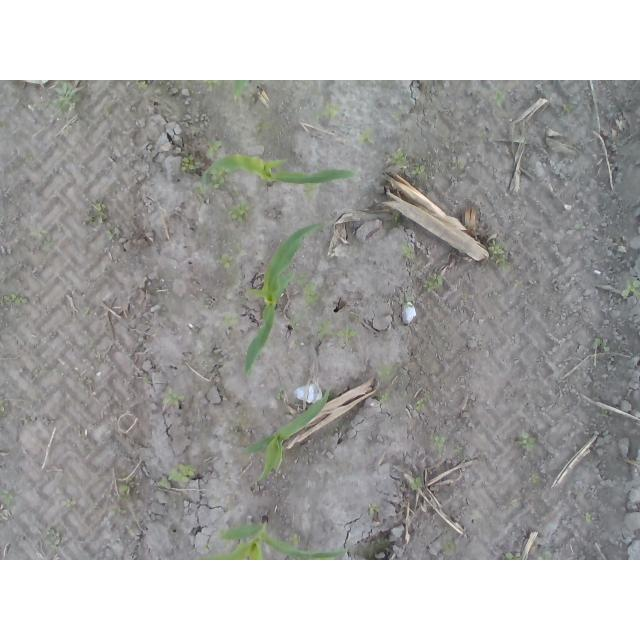Maize: (244, 224, 324, 376), (240, 389, 329, 483), (198, 151, 356, 194), (206, 520, 346, 561), (232, 80, 249, 98)
Weeds: (158, 462, 199, 490), (32, 226, 57, 255), (83, 199, 109, 226), (309, 101, 339, 123), (488, 240, 507, 271), (161, 383, 187, 405), (229, 203, 252, 224), (422, 273, 447, 292), (390, 148, 411, 169), (112, 478, 132, 500), (516, 432, 541, 449), (493, 86, 512, 108), (303, 284, 321, 305), (0, 291, 28, 304), (621, 278, 640, 297), (358, 127, 378, 145), (433, 434, 448, 457), (180, 154, 196, 175), (216, 254, 237, 270), (315, 319, 333, 337), (399, 241, 417, 259), (208, 138, 225, 156), (208, 174, 227, 190), (593, 336, 610, 353), (46, 527, 62, 545), (440, 538, 456, 556), (451, 443, 466, 462), (190, 113, 208, 128), (410, 163, 427, 178), (105, 224, 120, 240), (33, 368, 63, 376), (375, 366, 392, 380), (503, 499, 519, 513), (224, 314, 241, 327), (335, 328, 357, 338), (302, 181, 320, 193), (409, 476, 427, 488), (397, 295, 415, 307), (448, 158, 464, 170), (111, 506, 130, 516), (205, 81, 222, 92), (375, 391, 393, 401), (296, 273, 308, 288), (528, 474, 544, 485), (0, 491, 12, 505), (288, 533, 302, 545), (536, 550, 552, 560), (561, 103, 573, 116), (135, 80, 150, 90), (504, 552, 522, 560), (391, 209, 401, 223), (0, 399, 8, 416), (415, 398, 425, 410), (89, 336, 96, 352), (66, 499, 76, 510), (391, 111, 402, 121), (369, 503, 380, 513), (584, 512, 593, 524), (143, 375, 152, 386), (480, 132, 489, 142), (83, 305, 89, 320), (303, 304, 313, 312), (291, 320, 301, 328), (600, 409, 609, 417), (276, 392, 283, 400)
